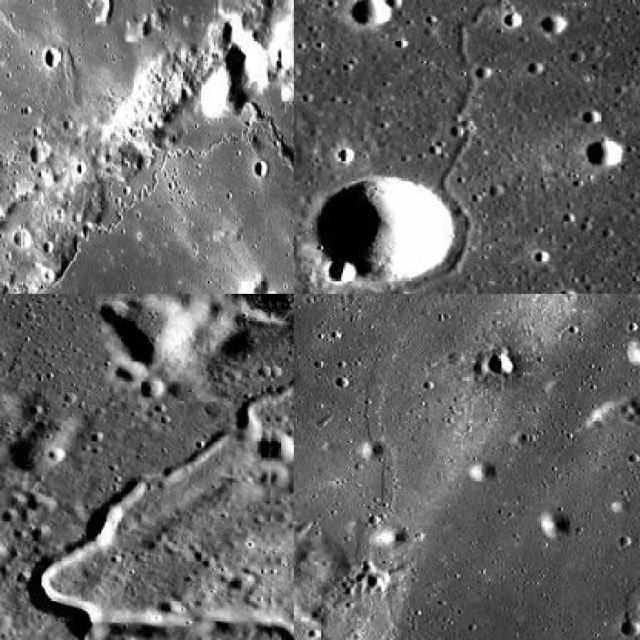rille: (0, 0, 292, 292), (26, 337, 292, 638), (399, 0, 638, 292), (457, 322, 638, 638), (326, 340, 400, 638)
